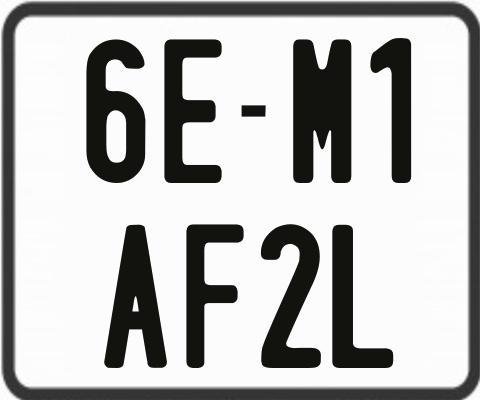1: (369, 35, 410, 182)
2: (258, 224, 319, 369)
6: (86, 37, 151, 185)
A: (101, 222, 166, 367)
E: (163, 36, 227, 182)
F: (186, 222, 246, 372)
L: (329, 223, 394, 368)
M: (291, 36, 349, 183)
